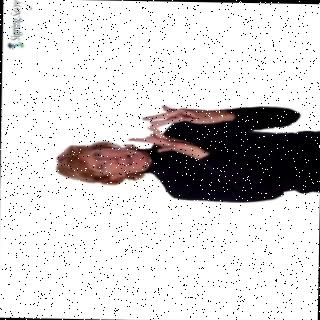Internet: (52, 100, 314, 203)
